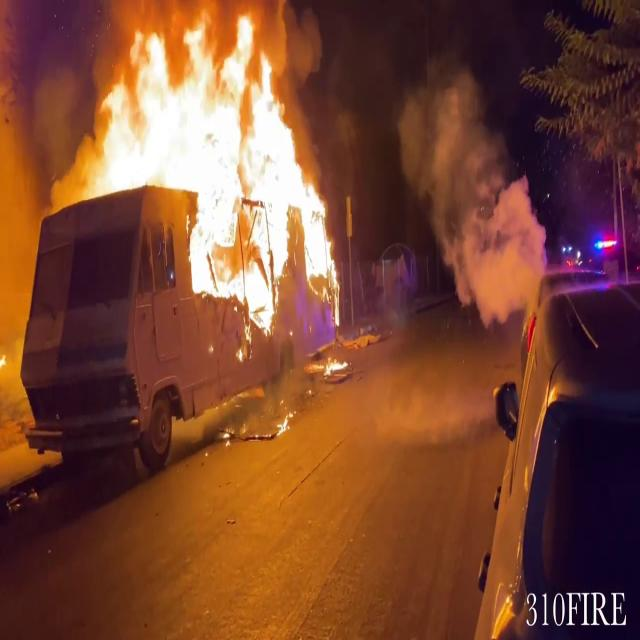Fire: (68, 1, 344, 313)
Smoke: (388, 46, 552, 330)
